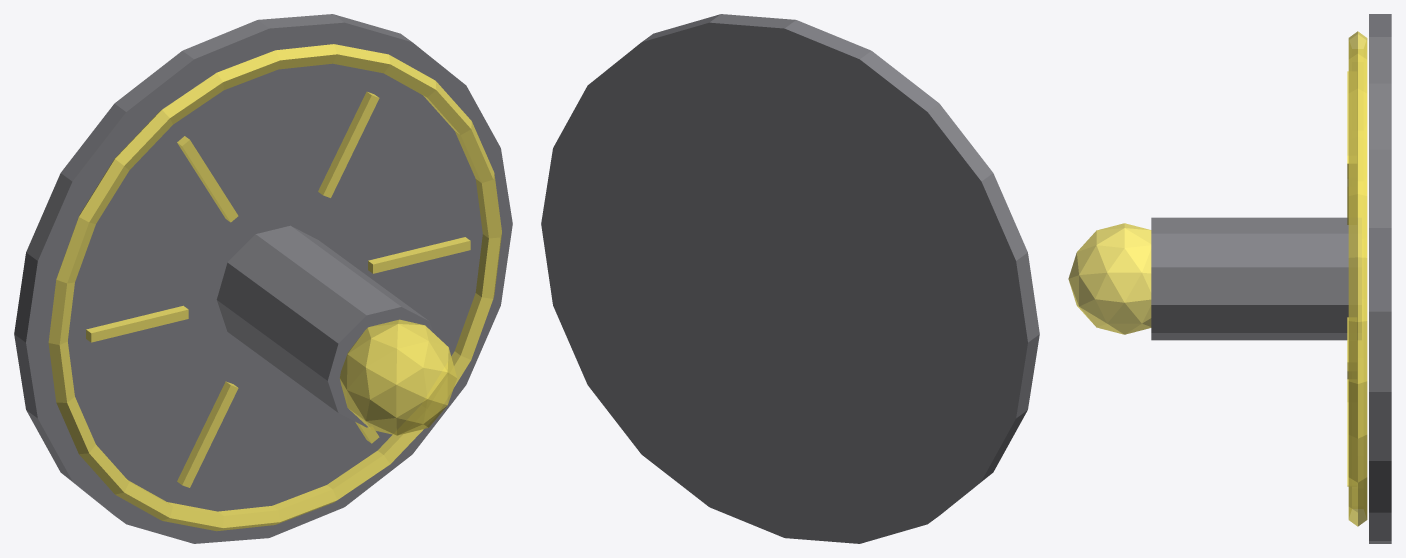
The model's file is behemoth_shockwave_plate.glb.
3 renders of one model, left to right at view 1: azimuth 30°, elevation 25°; view 2: azimuth 150°, elevation 25°; view 3: azimuth 270°, elevation 25°, orthographic. The views are drawn at different scales.
Parts seen in each view (by area): view 1: arena_plate, warning_ring, mechanic_core, activation_orb, floor_rune_4, floor_rune_1, floor_rune_3, floor_rune_0, floor_rune_2; view 2: arena_plate; view 3: mechanic_core, arena_plate, warning_ring, activation_orb.
Part boxes in pixels (bbox=[...]): arena_plate: bbox=[14, 14, 512, 543]; warning_ring: bbox=[48, 44, 501, 531]; mechanic_core: bbox=[216, 225, 433, 427]; activation_orb: bbox=[339, 319, 457, 435]; floor_rune_4: bbox=[177, 381, 238, 487]; floor_rune_1: bbox=[318, 91, 379, 197]; floor_rune_3: bbox=[86, 305, 188, 342]; floor_rune_0: bbox=[368, 237, 470, 273]; floor_rune_2: bbox=[177, 136, 238, 222]; arena_plate: bbox=[541, 14, 1039, 543]; mechanic_core: bbox=[1151, 217, 1348, 340]; arena_plate: bbox=[1369, 14, 1391, 543]; warning_ring: bbox=[1348, 31, 1367, 526]; activation_orb: bbox=[1068, 223, 1151, 334].
Bounding box in the file's own units: 1.9 × 1.9 × 1.15.
